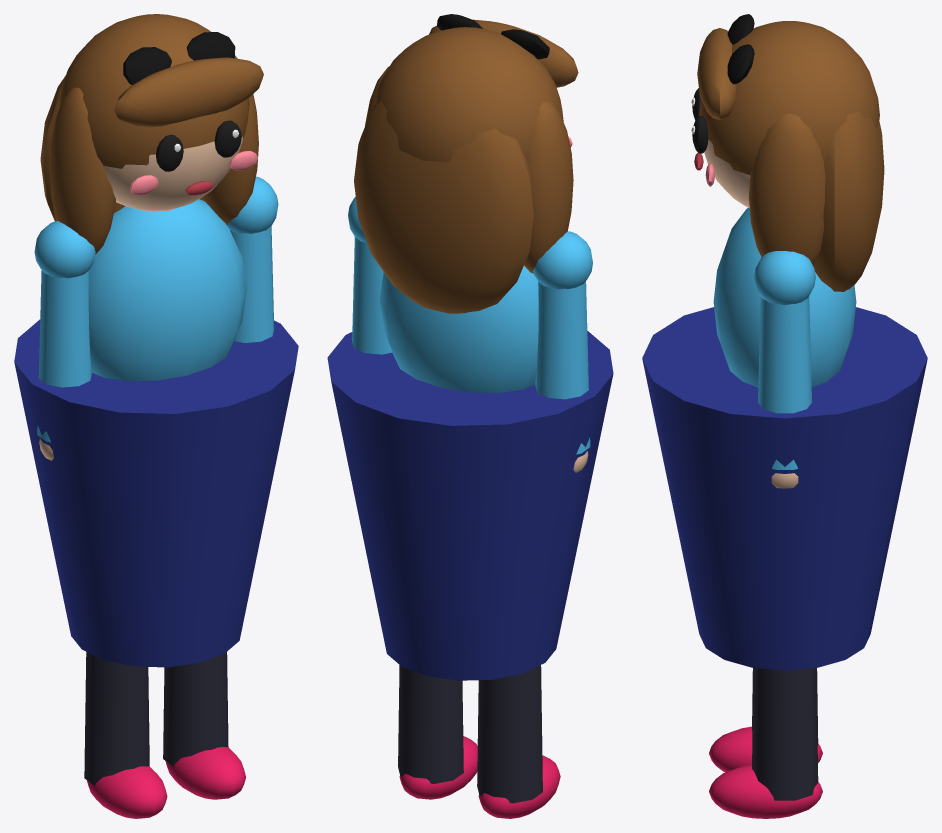
The model's file is lulu_person.glb.
3 renders of one model, left to right at view 1: azimuth 30°, elevation 25°; view 2: azimuth 150°, elevation 25°; view 3: azimuth 270°, elevation 25°, orthographic.
Visible parts, largest first — view 1: Body, Leg_R, Leg_L, Arm_R, Arm_L; view 2: Body, Leg_R, Leg_L, Arm_R, Arm_L; view 3: Body, Leg_L, Arm_L, Leg_R.
Part boxes in pixels (left/top/right/bottom): Body: left=14, top=14, right=298, bottom=667; Leg_R: left=84, top=652, right=167, bottom=818; Leg_L: left=163, top=652, right=245, bottom=799; Arm_R: left=34, top=221, right=95, bottom=460; Arm_L: left=227, top=176, right=278, bottom=342; Body: left=327, top=14, right=613, bottom=680; Leg_R: left=477, top=665, right=560, bottom=818; Leg_L: left=398, top=665, right=477, bottom=799; Arm_R: left=533, top=231, right=592, bottom=472; Arm_L: left=348, top=197, right=392, bottom=354; Body: left=642, top=14, right=927, bottom=670; Leg_L: left=709, top=668, right=822, bottom=818; Arm_L: left=754, top=251, right=815, bottom=488; Leg_R: left=709, top=668, right=822, bottom=772.
Bounding box in the file's own units: 0.6 × 1.78 × 0.6.
